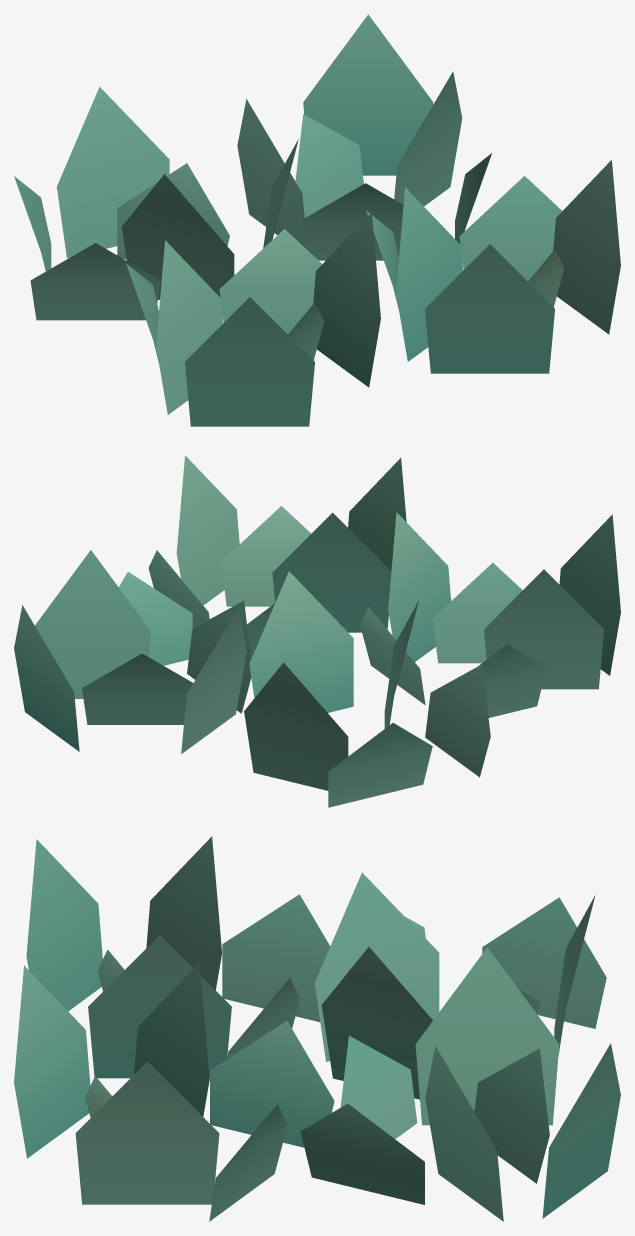
The model's file is grass-large.glb.
3 views of the same model, one above another, from view 1: azimuth 30°, elevation 25°; view 2: azimuth 150°, elevation 25°; view 3: azimuth 270°, elevation 25° (orthographic). The views are drawn at different scales.
Visible parts, largest first — view 1: grass-large; view 2: grass-large; view 3: grass-large.
Boxes of the visible parts, x1=… form: grass-large: x1=14, y1=14, x2=620, y2=426; grass-large: x1=14, y1=455, x2=620, y2=807; grass-large: x1=14, y1=836, x2=620, y2=1221.
Bounding box in the file's own units: 0.4759 × 0.1425 × 0.4873.
